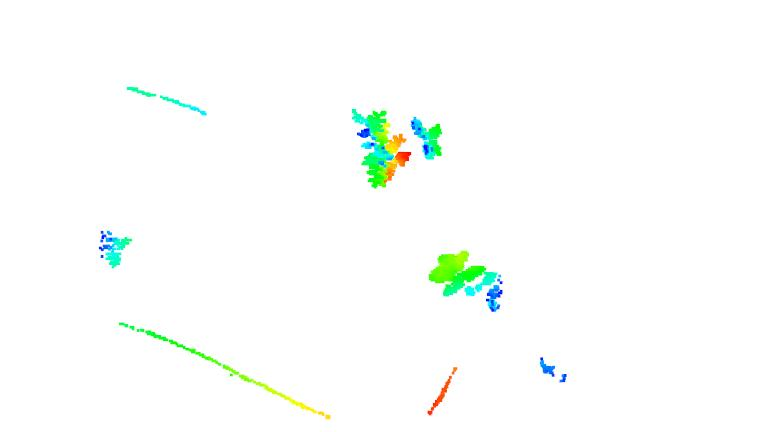chickpea: (429, 245, 516, 312), (344, 107, 410, 189), (409, 114, 456, 162), (95, 229, 134, 270)
